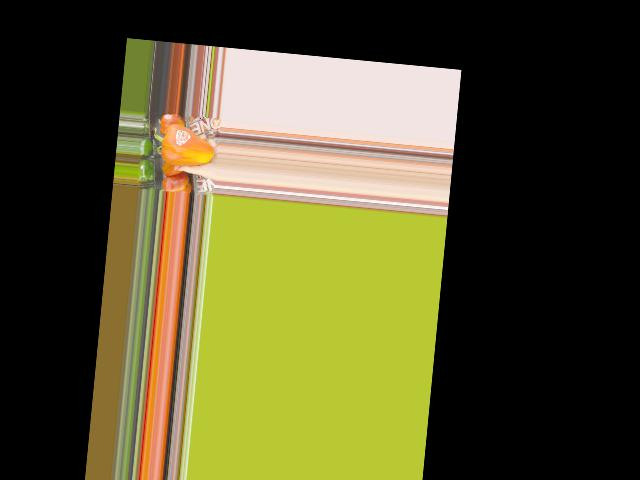bell_pepper: (150, 120, 215, 173)
